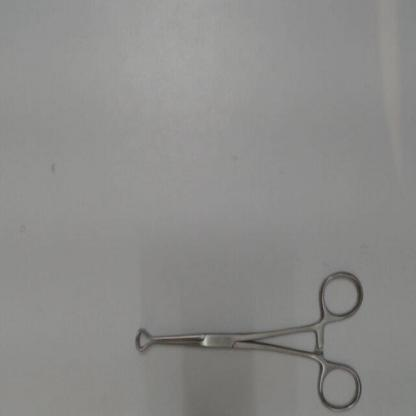Babcock Tissue Forceps: (132, 266, 368, 414)
